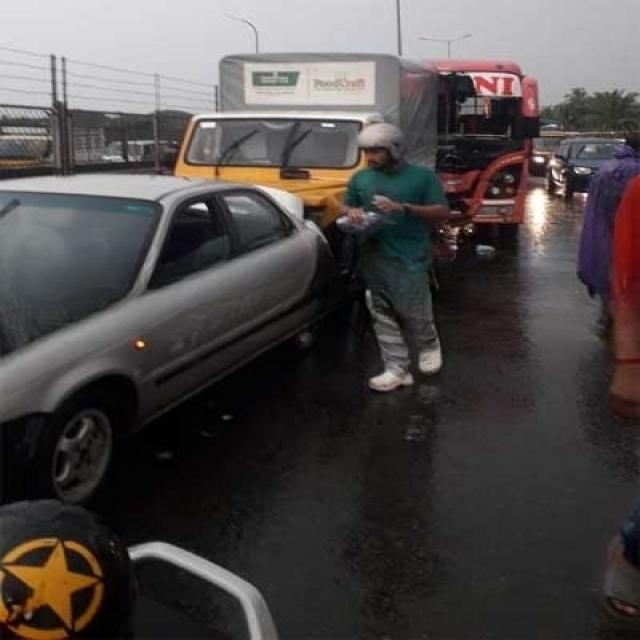truck: (174, 54, 435, 218)
